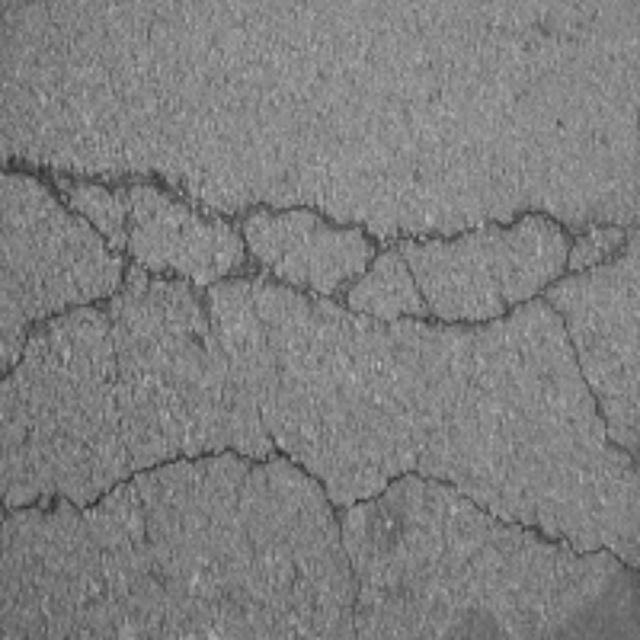Crack: (0, 102, 640, 567)
